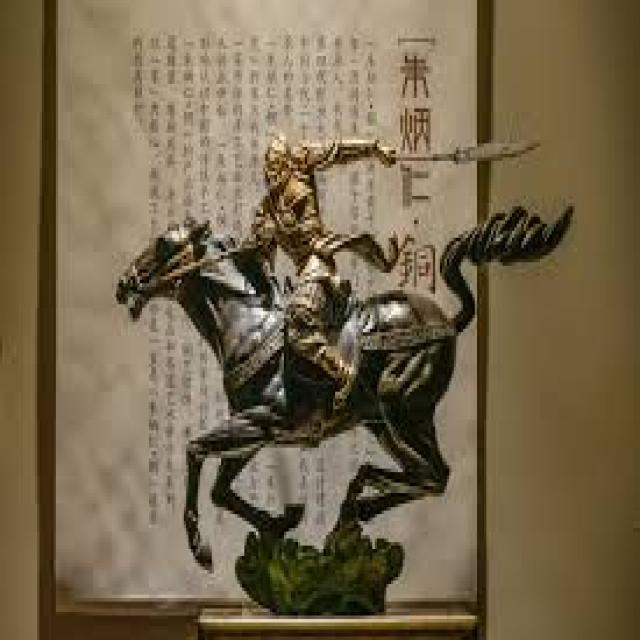Guan Yu: (247, 132, 332, 317)
